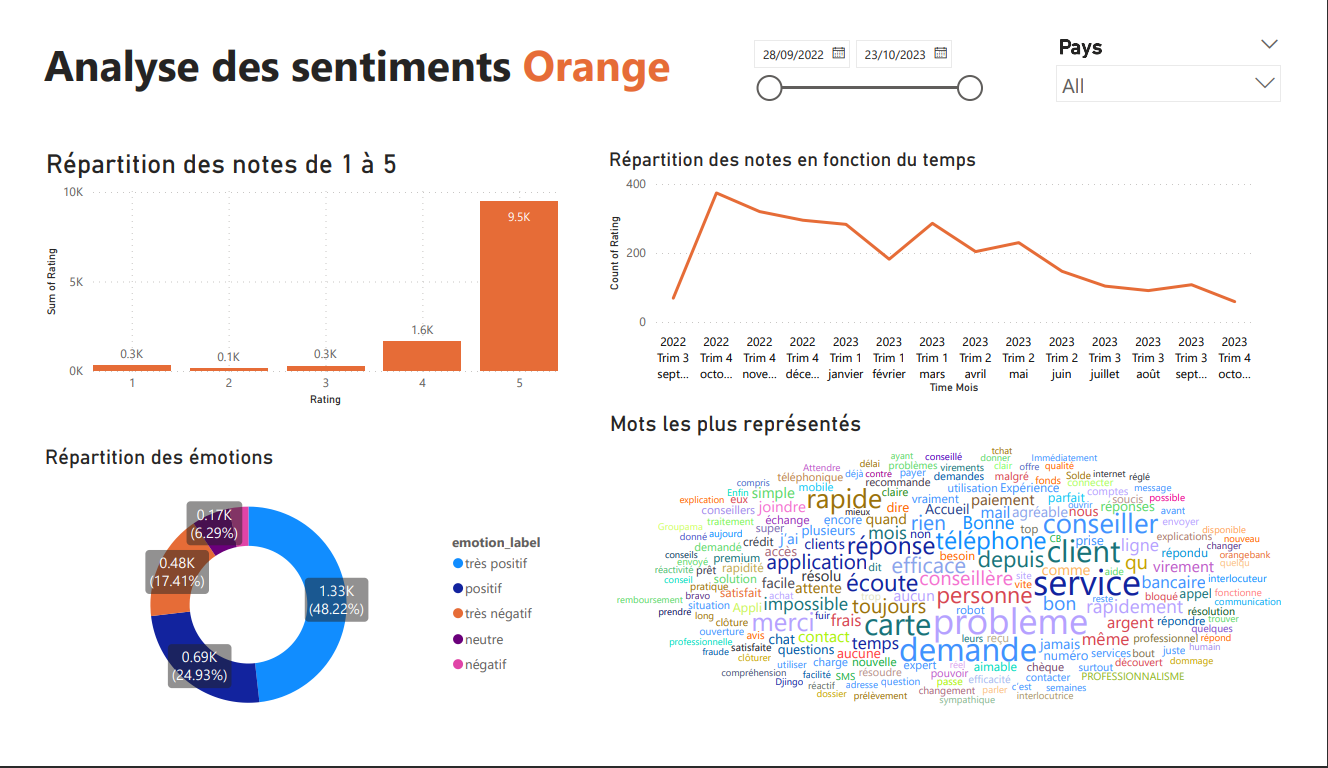

What the dashboard file says about the page in this screenshot:
{"tool":"powerbi","page":{"name":"Page 1","canvas":[1280,720],"ordinal":0},"visuals":[{"type":"columnChart","title":"Répartition des notes de 1 à 5","fields":{"Category":["final_orange_reputation.Rating"],"Y":["Sum(final_orange_reputation.Rating)"]},"box":[17.8,126.2,522.6,262.1],"z":0},{"type":"textbox","box":[16,8,742,76],"z":1000},{"type":"slicer","fields":{"Values":["final_orange_reputation.Country"]},"box":[1023.3,8.3,245,90],"z":2000},{"type":"WordCloud1447959067750","title":"Mots les plus représentés","fields":{"Category":["final_orange_reputation.Content"]},"box":[582.1,388.7,697.6,331.3],"z":3000},{"type":"donutChart","title":"Répartition des émotions","fields":{"Y":["CountNonNull(final_orange_reputation.emotion_label)"],"Category":["final_orange_reputation.emotion_label"]},"box":[17,422.9,522.9,296.4],"z":4000},{"type":"lineChart","title":"Répartition des notes en fonction du temps","fields":{"Y":["CountNonNull(final_orange_reputation.Rating)"],"Category":["final_orange_reputation.Time.Variation.Hiérarchie de dates.Année","final_orange_reputation.Time.Variation.Hiérarchie de dates.Trimestre","final_orange_reputation.Time.Variation.Hiérarchie de dates.Mois"]},"box":[581.4,125.7,654.3,250],"z":5000},{"type":"slicer","fields":{"Values":["final_orange_reputation.Time"]},"box":[718.3,8.3,250,76.7],"z":6000}]}

Visuals, with their boxes in screenshot pixels (x1, y1, x2, y2), scaled from the page's 1280x720 canvas onto the 1328x768 screenshot:
"Répartition des notes de 1 à 5" columnChart: box=[18, 135, 561, 414]
textbox: box=[17, 9, 786, 90]
slicer - final_orange_reputation.Country: box=[1062, 9, 1316, 105]
"Mots les plus représentés" WordCloud1447959067750: box=[604, 415, 1327, 767]
"Répartition des émotions" donutChart: box=[18, 451, 560, 767]
"Répartition des notes en fonction du temps" lineChart: box=[603, 134, 1282, 401]
slicer - final_orange_reputation.Time: box=[745, 9, 1005, 91]
